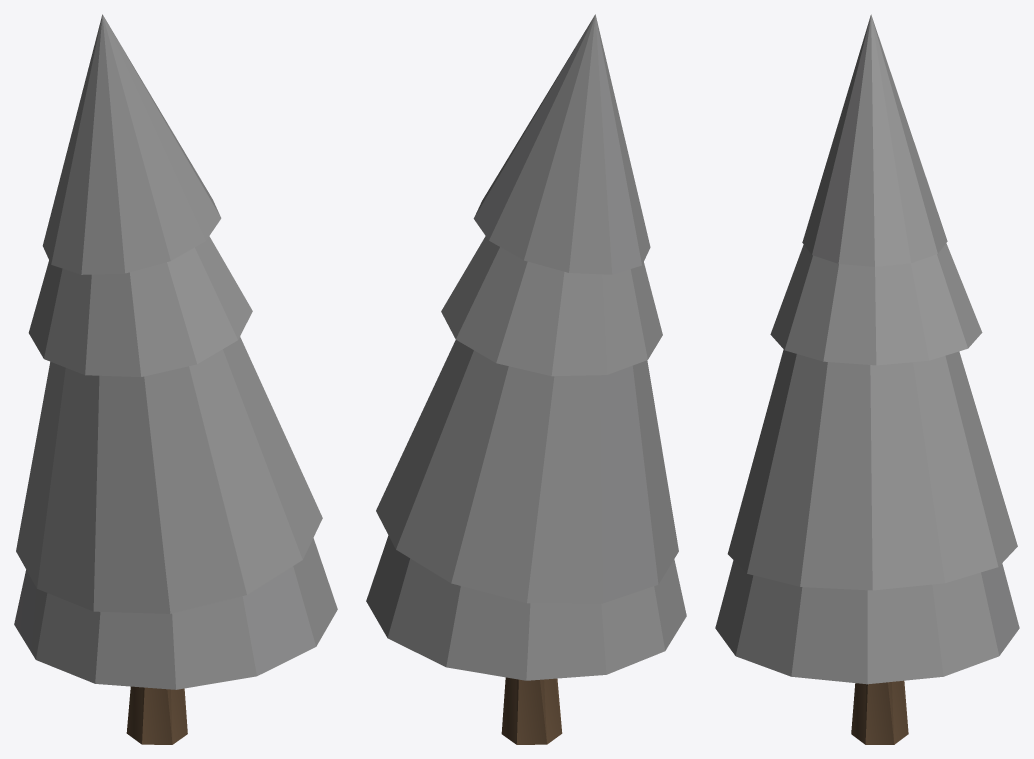
Rendered from tree_conifer_white_1.glb.
3 renders of one model, left to right at view 1: azimuth 30°, elevation 25°; view 2: azimuth 150°, elevation 25°; view 3: azimuth 270°, elevation 25°, orthographic. The views are drawn at different scales.
Visible parts, largest first — view 1: Tree Conifer 1.230; view 2: Tree Conifer 1.230; view 3: Tree Conifer 1.230.
Part boxes in pixels (x1,y1,x2,y2): Tree Conifer 1.230: (14,14,337,744); Tree Conifer 1.230: (366,14,686,744); Tree Conifer 1.230: (715,14,1019,744).
Bounding box in the file's own units: 0.1606 × 0.4041 × 0.1609.
